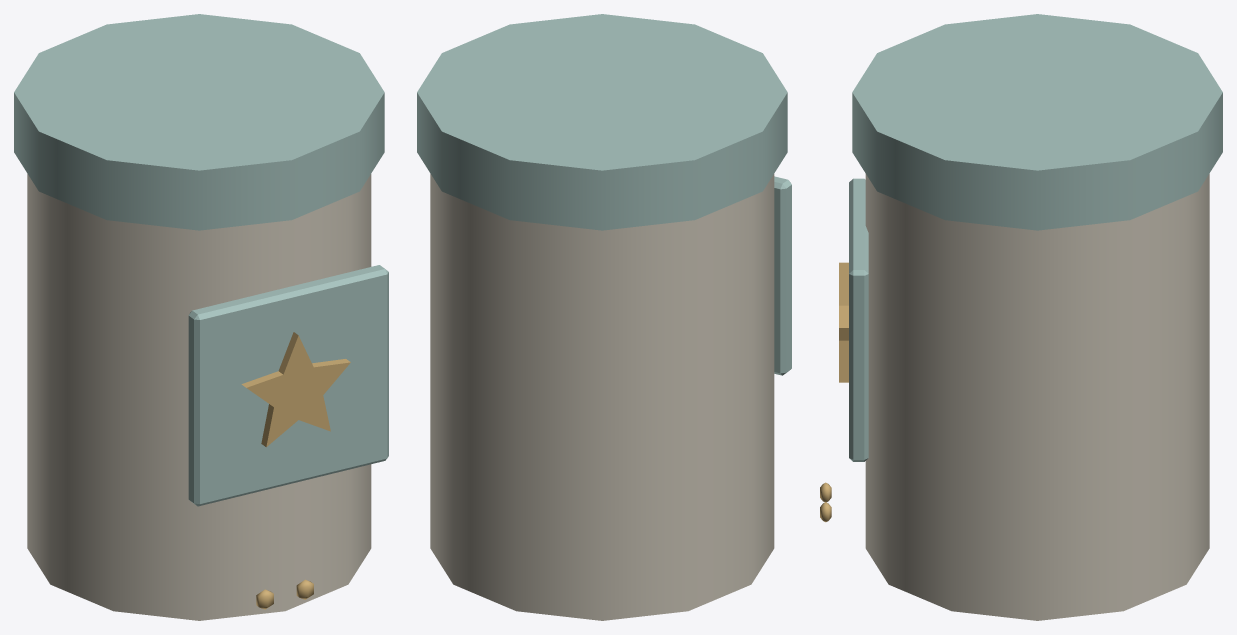
3 views of the same model, side by side, from view 1: azimuth 30°, elevation 25°; view 2: azimuth 150°, elevation 25°; view 3: azimuth 270°, elevation 25° (orthographic).
Visible parts, largest first — view 1: g_s64; view 2: g_s64; view 3: g_s64.
Part boxes in pixels (x1,y1,x2,y2): g_s64: (14,14,388,620); g_s64: (417,14,791,620); g_s64: (820,14,1222,620).
Bounding box in the file's own units: 0.28 × 0.38 × 0.3043.
